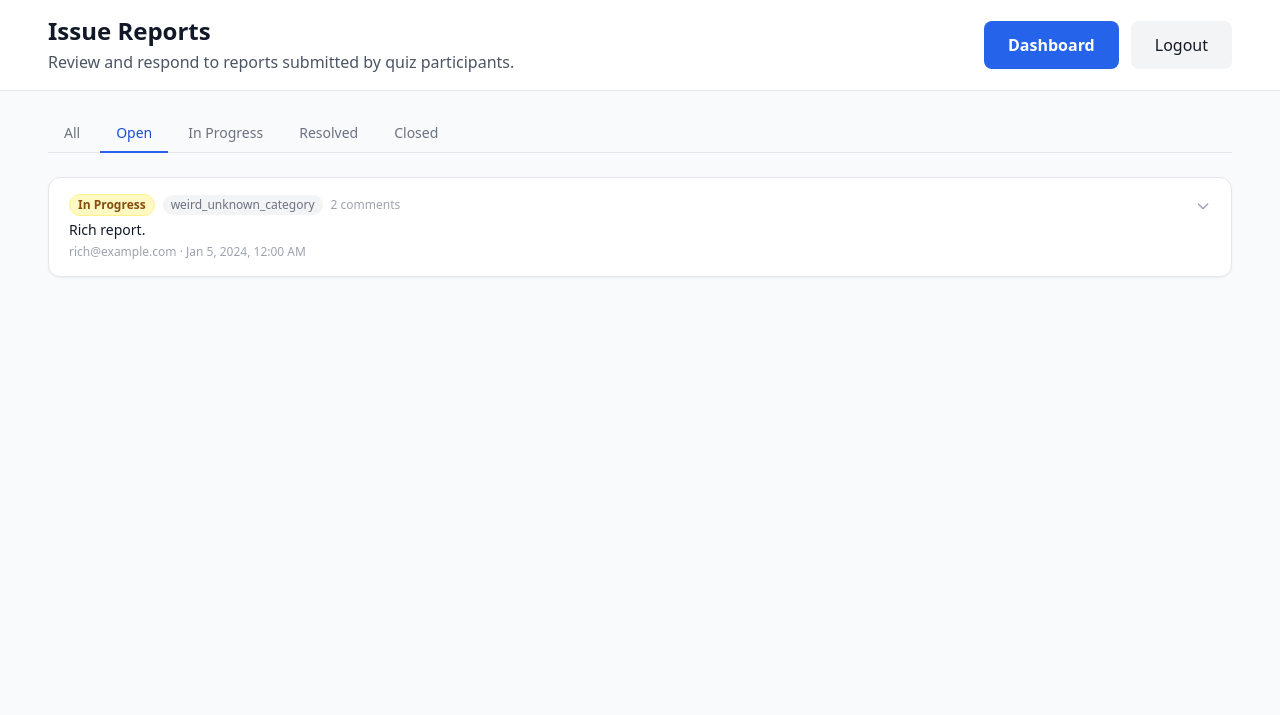
Test: ReportsPanelPage › renders unknown categories, plural comment counts, and non-admin comments
Expected: the text "weird_unknown_category" is shown, [163,195,323,215]
Expected: the text "2 comments" is shown, [331,197,400,213]
Step 1. Click the text "Rich report." → click(107, 230), box [69,220,145,239]
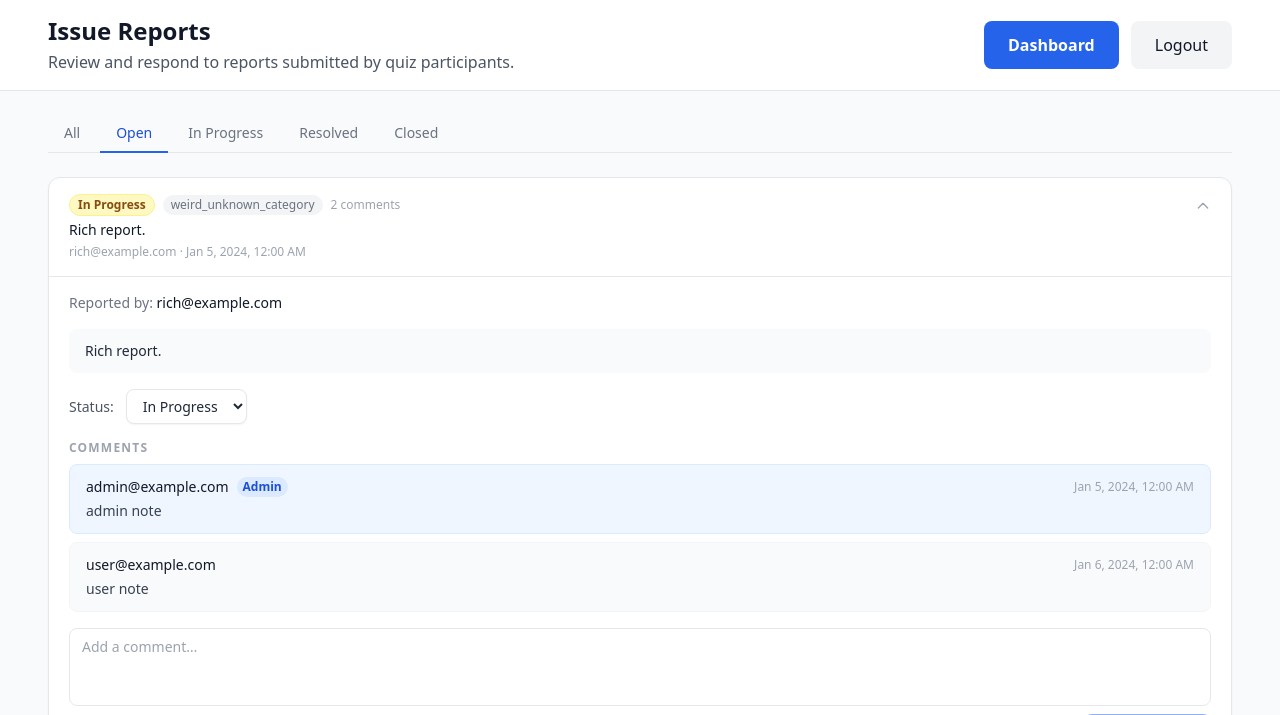
Expected: the text "admin note" is shown, [86,501,162,520]
Expected: the text "user note" is shown, [86,579,149,598]
